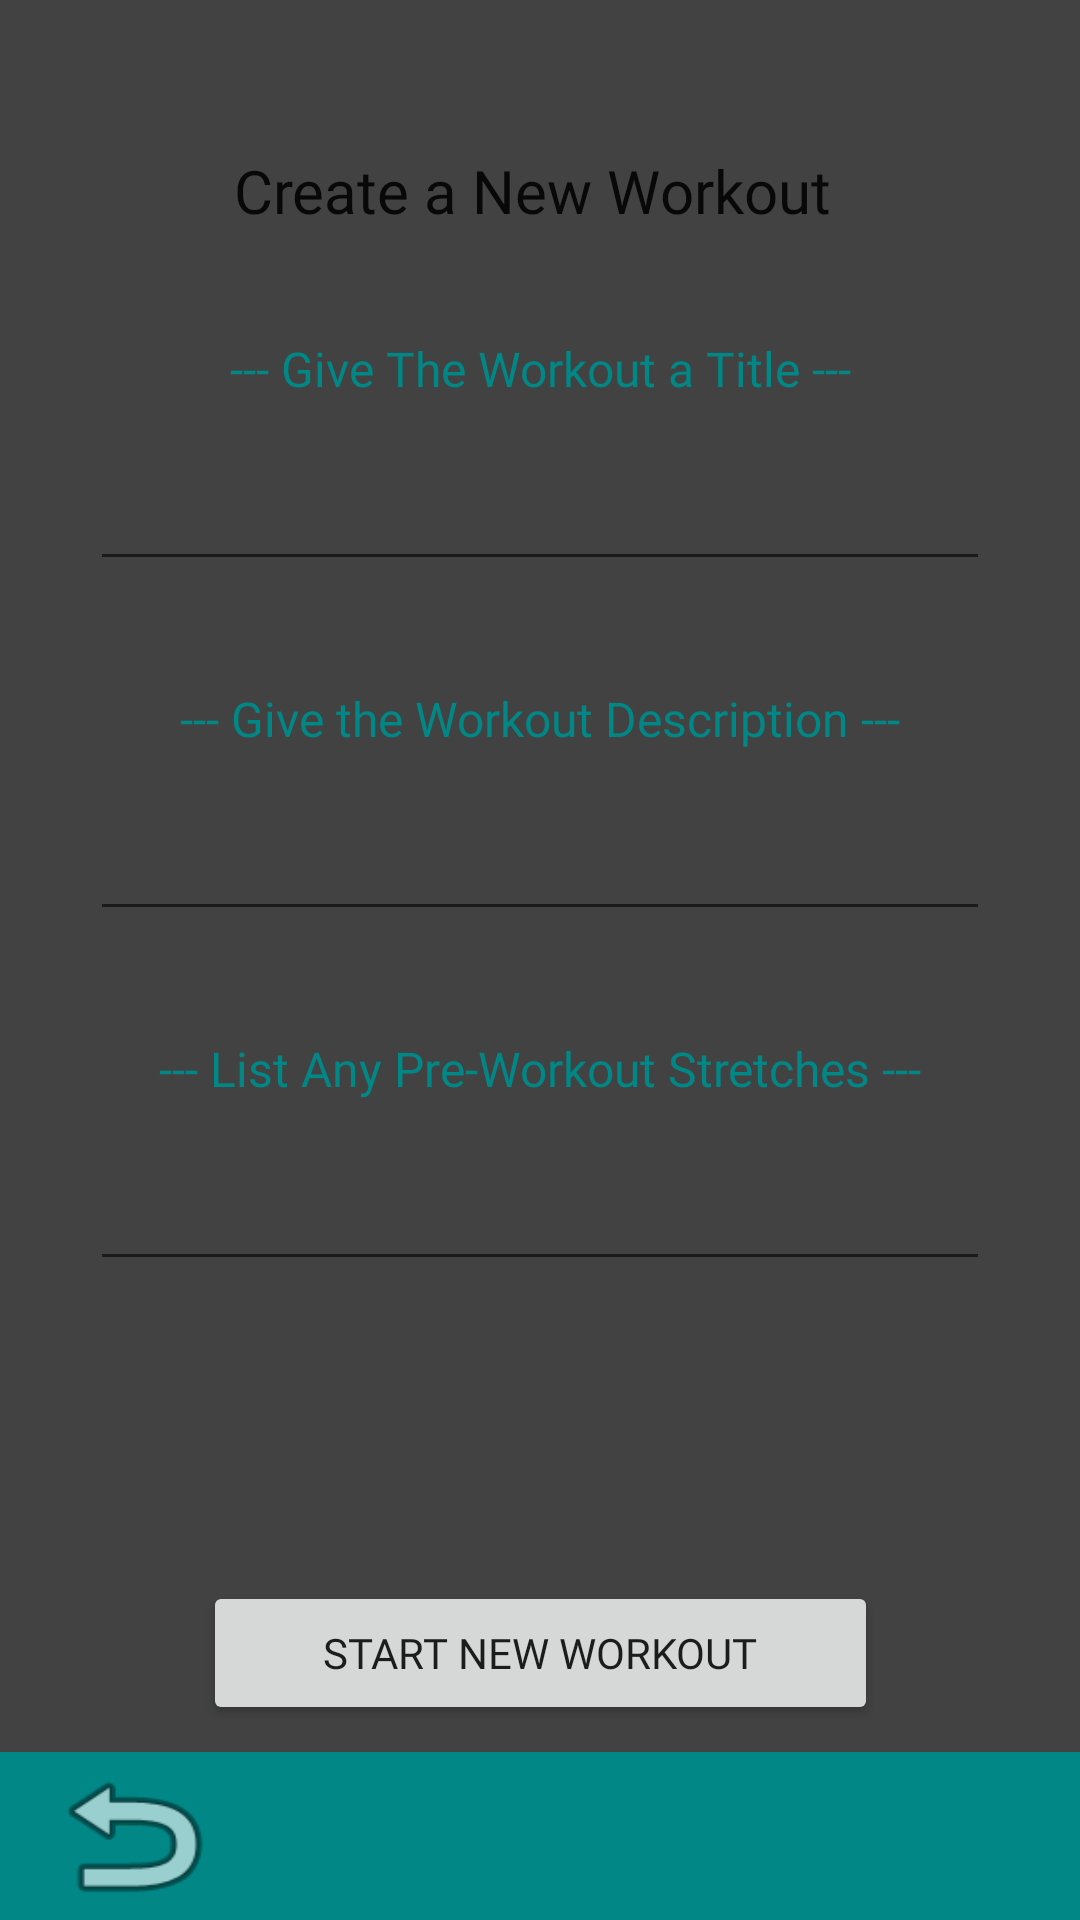

Screen size 1080*1920. Icon name, then its center in pixels as point (x, y):
revert: point (135, 1837)
